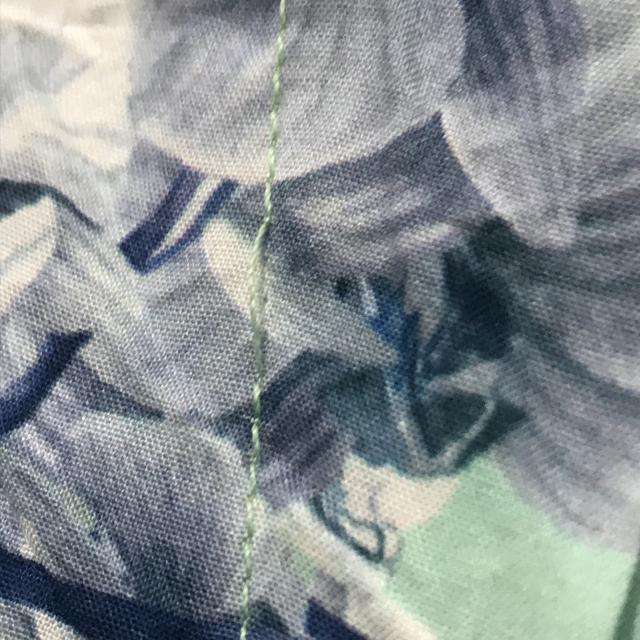skip: (201, 176, 294, 404)
